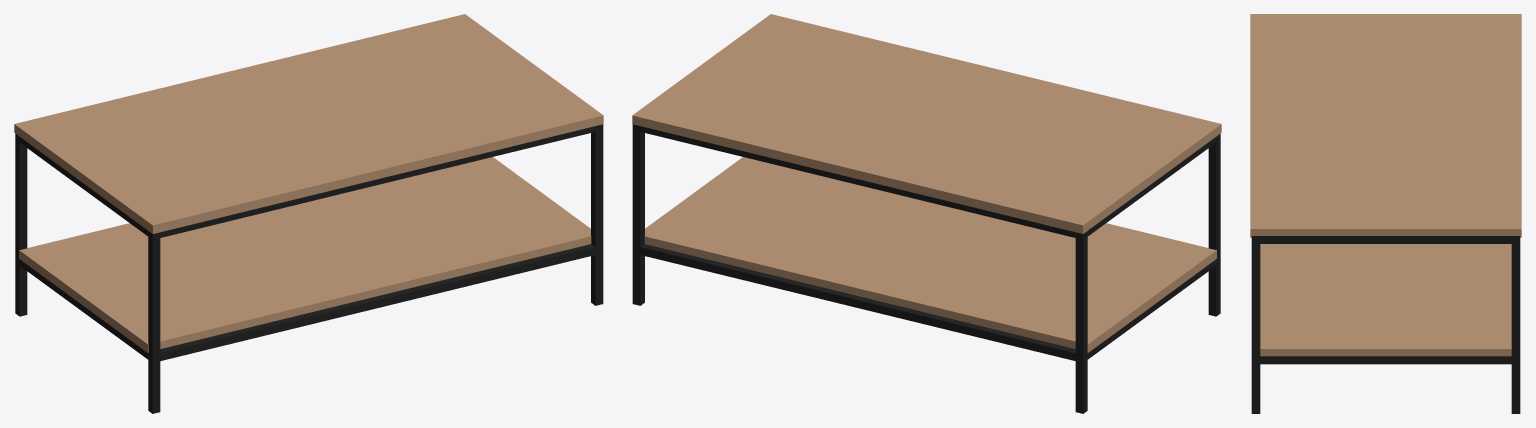
The model's file is table3.gltf.
3 renders of one model, left to right at view 1: azimuth 30°, elevation 25°; view 2: azimuth 150°, elevation 25°; view 3: azimuth 270°, elevation 25°, orthographic. The views are drawn at different scales.
Visible parts, largest first — view 1: Cube; view 2: Cube; view 3: Cube.
Part boxes in pixels (<box>): Cube: <box>14,14,603,413</box>; Cube: <box>632,14,1221,413</box>; Cube: <box>1250,14,1521,413</box>.
Size of the model in its own units: 1.19 by 0.4756 by 0.6318.
Materials: 1 (1 with a texture image).
